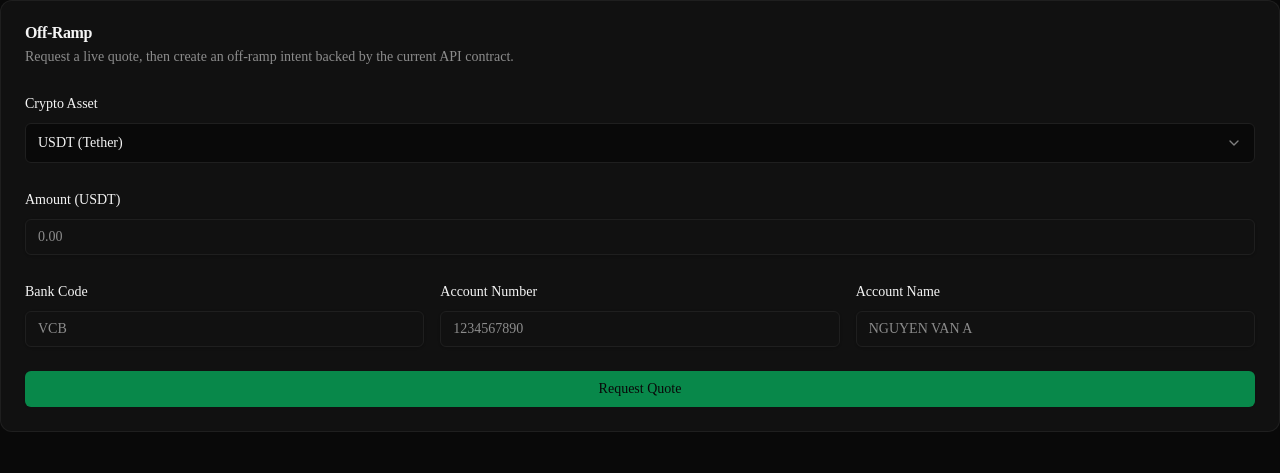
Test: OfframpForm › validates amount input
Step 1. Type "0" into the number field labelled "Amount (USDT)" → (640, 237), box 25,219 -> 1255,255
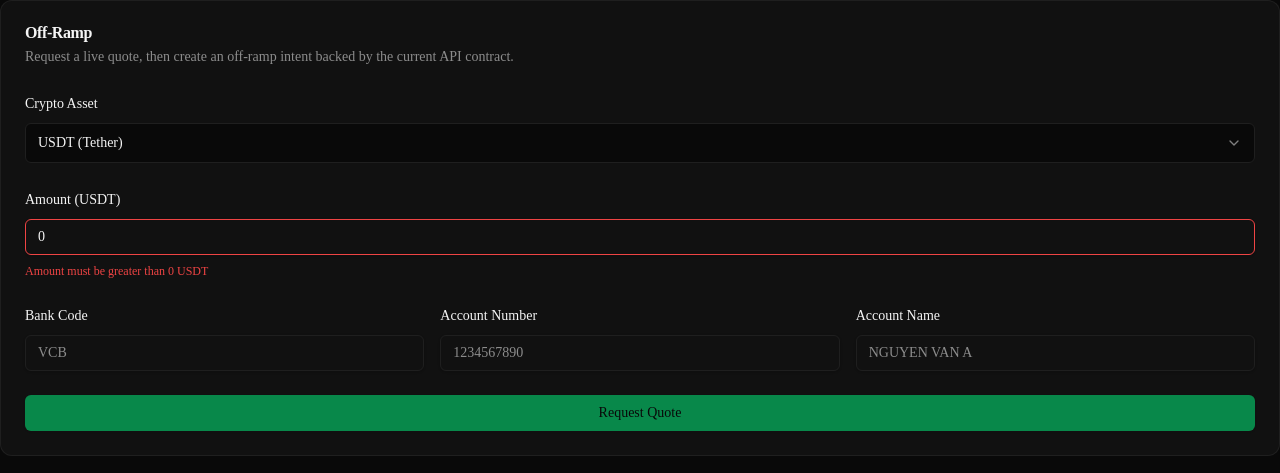
Result: the message "Amount must be greater than 0 USDT" is shown at 25,264 -> 208,278
Result: the message shows "greater than 0" at 25,264 -> 177,278
